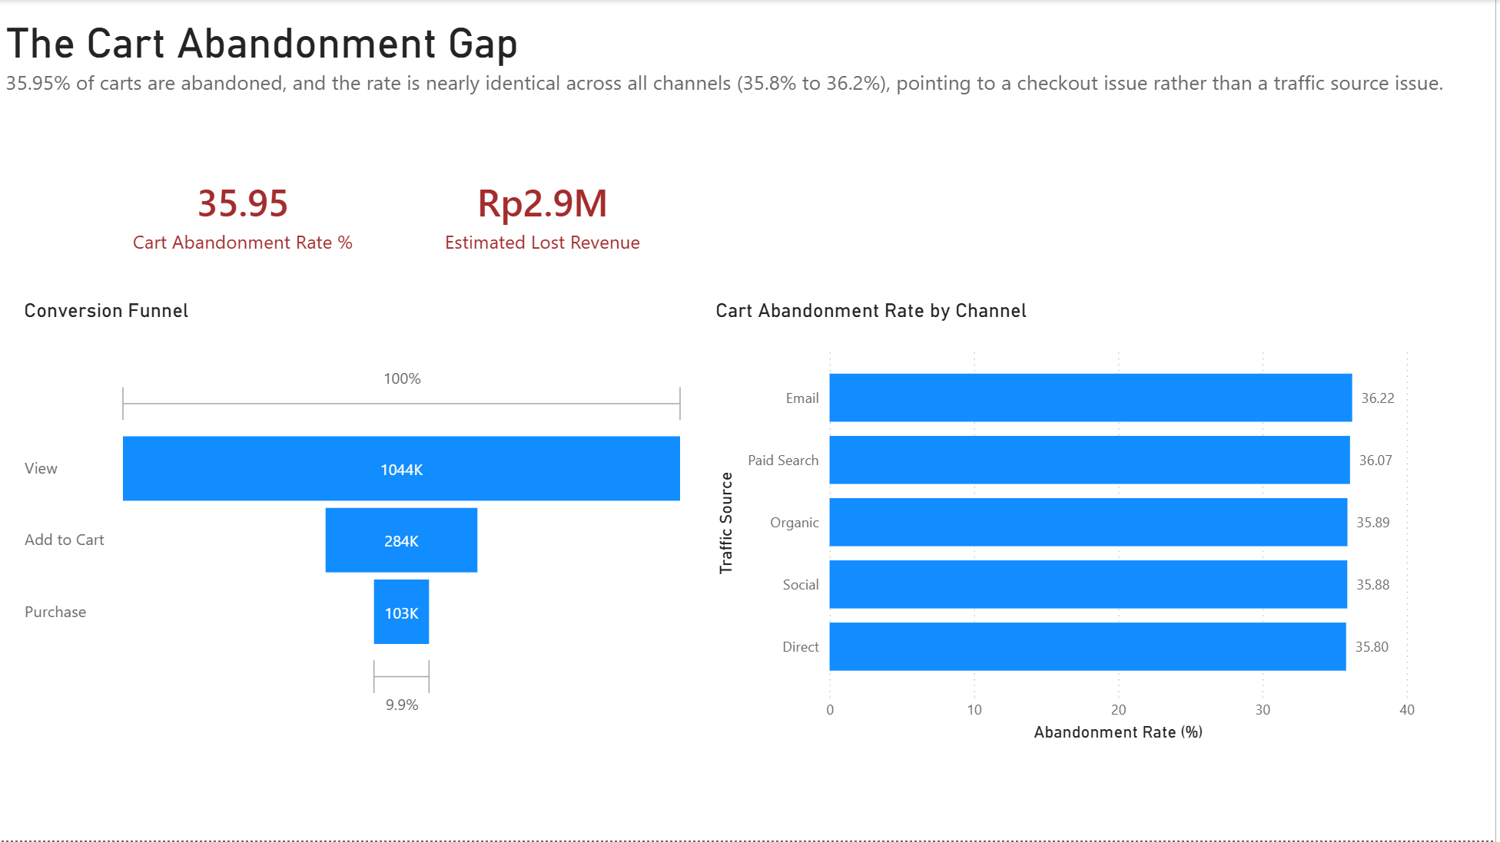

This screenshot's page, from the dashboard's own definition file:
{"tool":"powerbi","page":{"name":"Funnel ","canvas":[1280,720],"ordinal":2},"visuals":[{"type":"textbox","title":"The Cart Abandonment Gap","box":[0,16,1264,80],"z":0},{"type":"funnel","title":"Conversion Funnel","fields":{"Category":["Funnel_stages.Stage"],"Y":["Sum(Funnel_stages.Count)"]},"box":[16,256,576,384],"z":1000},{"type":"cardVisual","fields":{"Data":["Sum(q3_cart_abandonment_rate.cart_abandonment_rate_pct)"]},"box":[80,96,256,176],"z":2000},{"type":"cardVisual","fields":{"Data":["Sum(q3_estimasi_revenue_hilang.estimasi_potensi_revenue_hilang)"]},"box":[336,96,256,176],"z":3000},{"type":"clusteredBarChart","title":"Cart Abandonment Rate by Channel","fields":{"Category":["q3_abandonment_rate_per_channel.traffic_source"],"Y":["Sum(q3_abandonment_rate_per_channel.abandonment_rate_pct)"]},"box":[608,256,608,384],"z":4000}]}

Visuals, with their boxes in screenshot pixels (x1, y1, x2, y2), scaled from the page's 1280x720 canvas onto the 1500x842 screenshot:
"The Cart Abandonment Gap" textbox: [left=0, top=19, right=1481, bottom=112]
"Conversion Funnel" funnel: [left=19, top=299, right=694, bottom=748]
cardVisual - Sum(q3_cart_abandonment_rate.cart_abandonment_rate_pct): [left=94, top=112, right=394, bottom=318]
cardVisual - Sum(q3_estimasi_revenue_hilang.estimasi_potensi_revenue_hilang): [left=394, top=112, right=694, bottom=318]
"Cart Abandonment Rate by Channel" clusteredBarChart: [left=712, top=299, right=1425, bottom=748]
